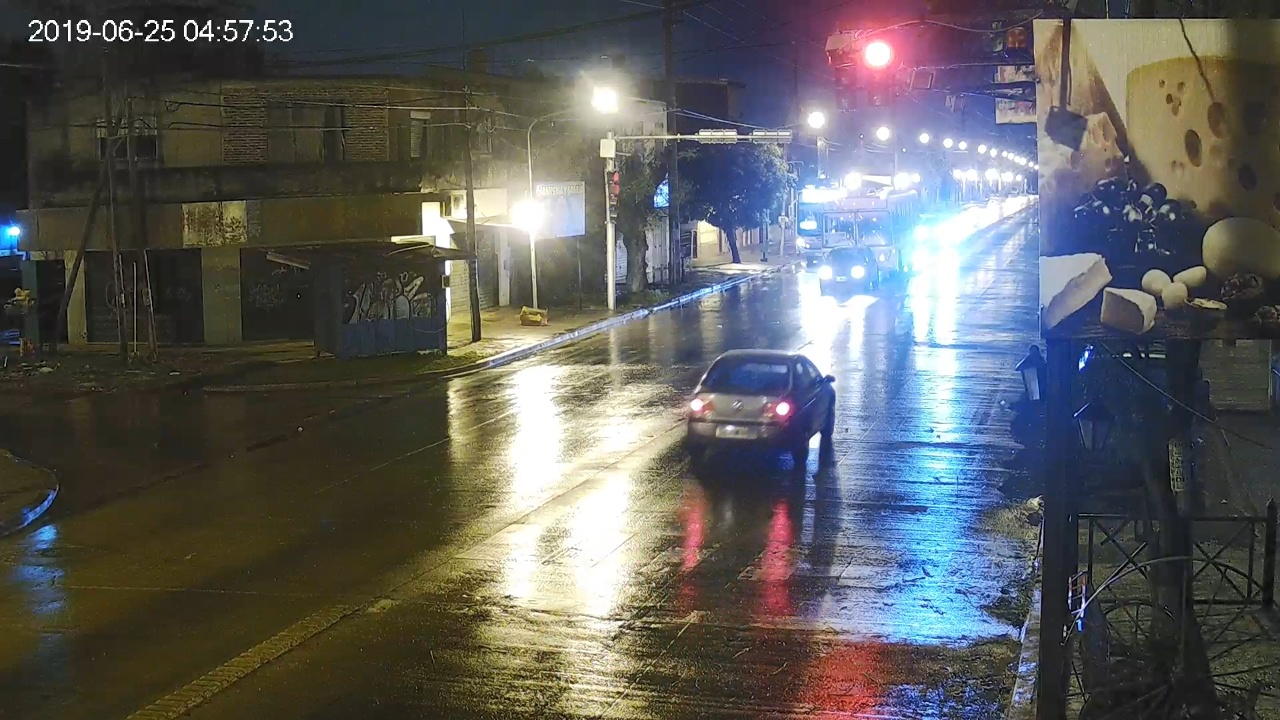car: (688, 348, 837, 460)
traffic light: (867, 39, 889, 106)
